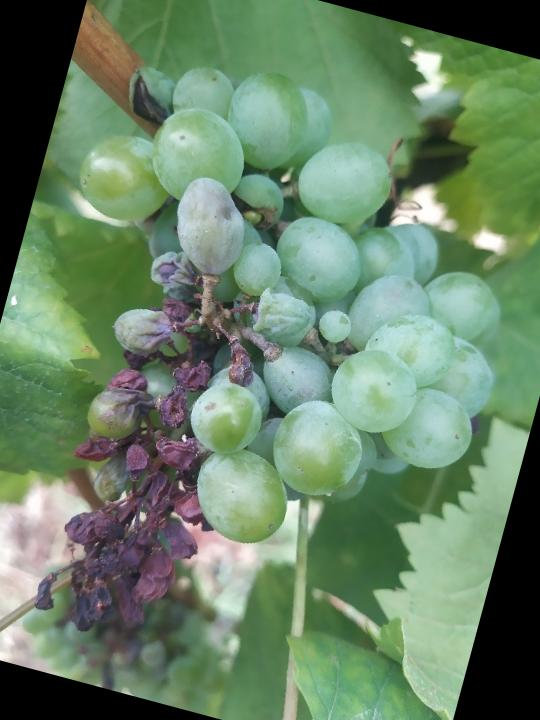grape: (0, 24, 540, 720)
